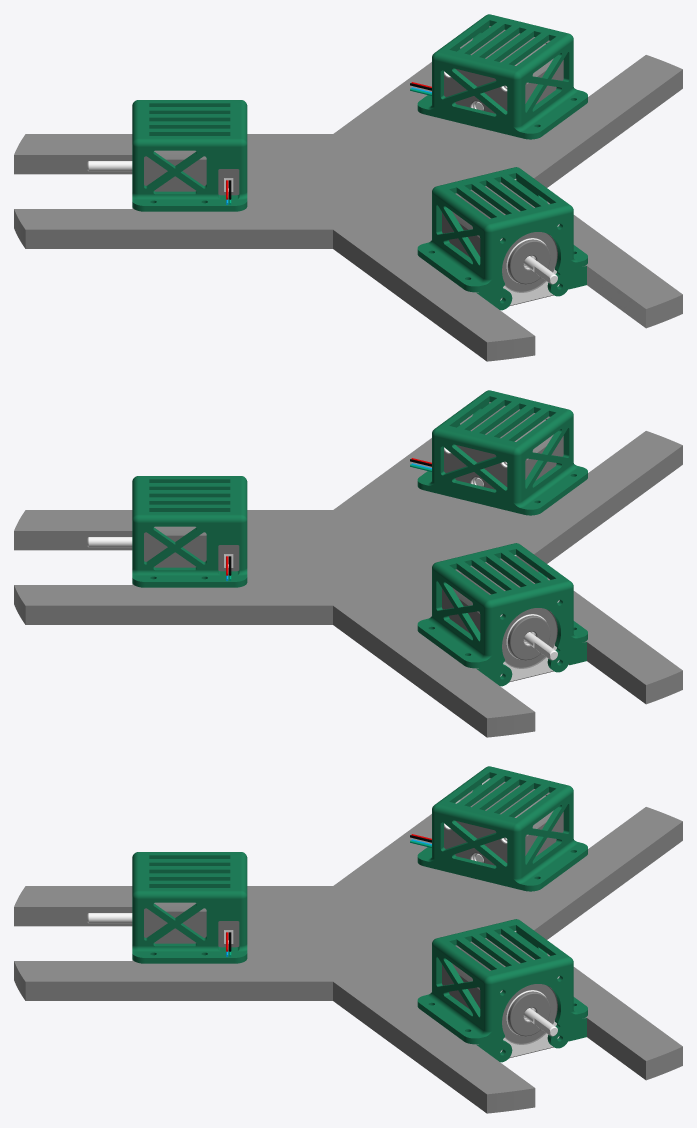
Rendered from robot_base.dae.
3 renders of one model, top to bottom at view 1: azimuth 30°, elevation 25°; view 2: azimuth 150°, elevation 25°; view 3: azimuth 270°, elevation 25°, orthographic.
Visible parts, largest first — view 1: ID2; view 2: ID2; view 3: ID2.
Part boxes in pixels (x1,y1,x2,y2): ID2: (14,14,682,361); ID2: (14,390,682,737); ID2: (14,766,682,1113).
Bounding box in the file's own units: 0.3565 × 0.3142 × 0.0453.
